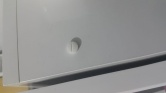Arveles: (66, 41, 79, 55)
